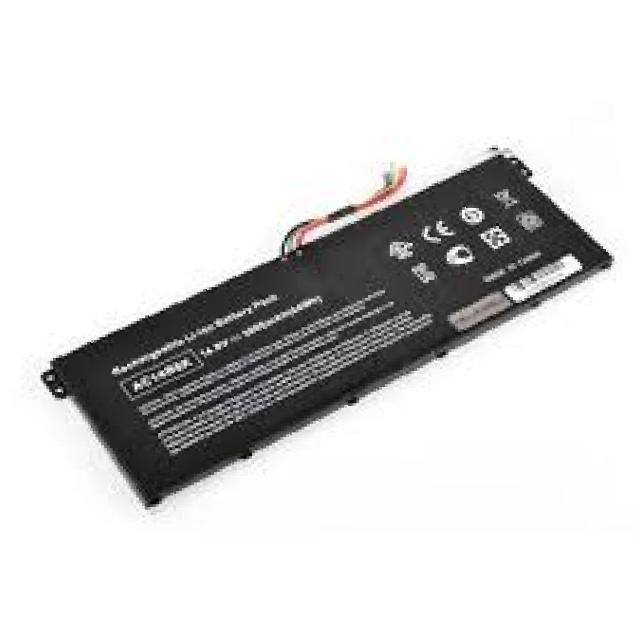Battery: (32, 104, 624, 530)
